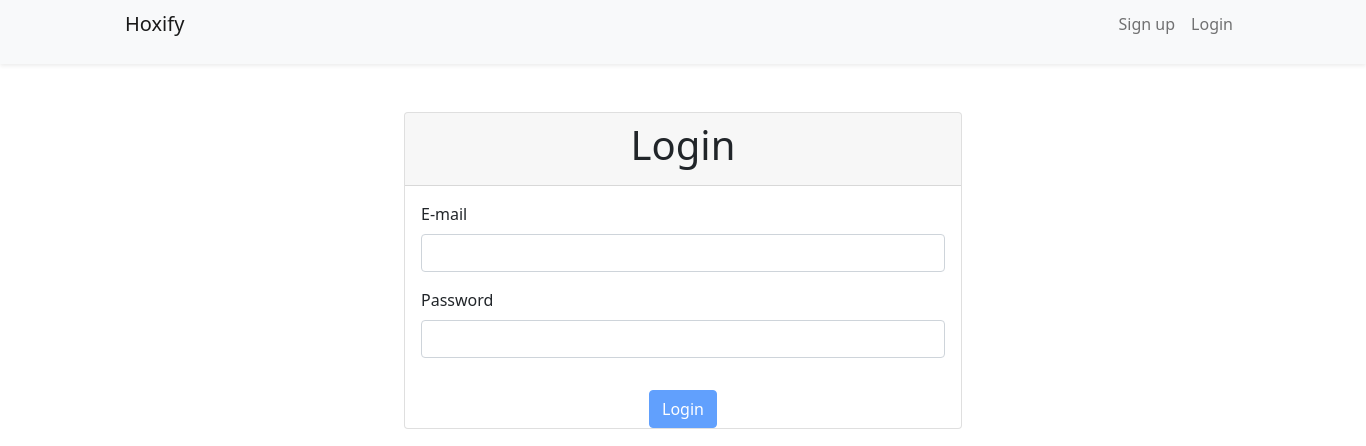
Test: Login › navigates to homepage when login is success
The image size is (1366, 446).
Type "user5@mail.com" into the field labelled "E-mail" at (683, 253), box 421,234 -> 945,272
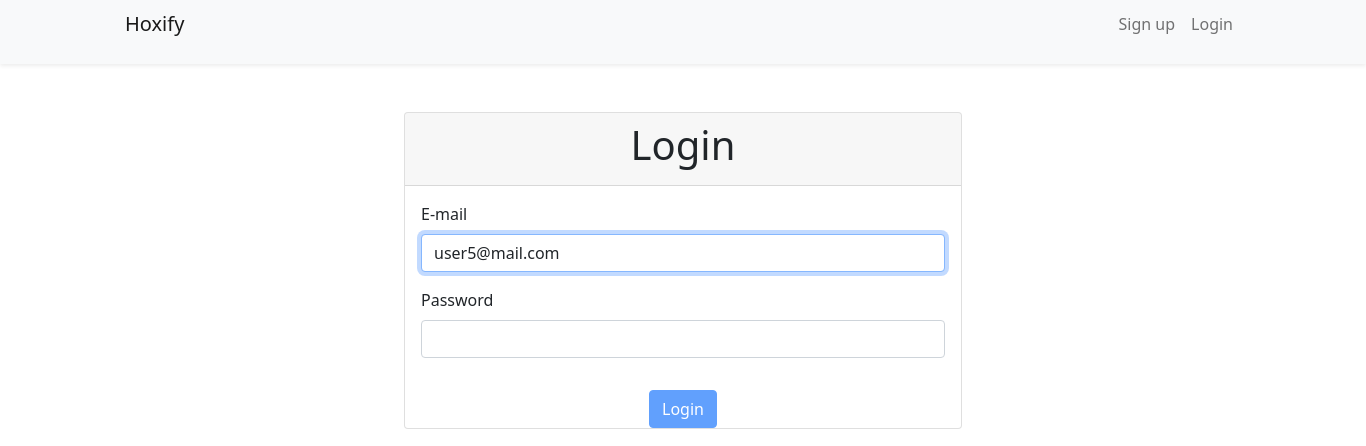
Type "P4ssword" into the password field labelled "Password" at (683, 339), box 421,320 -> 945,358
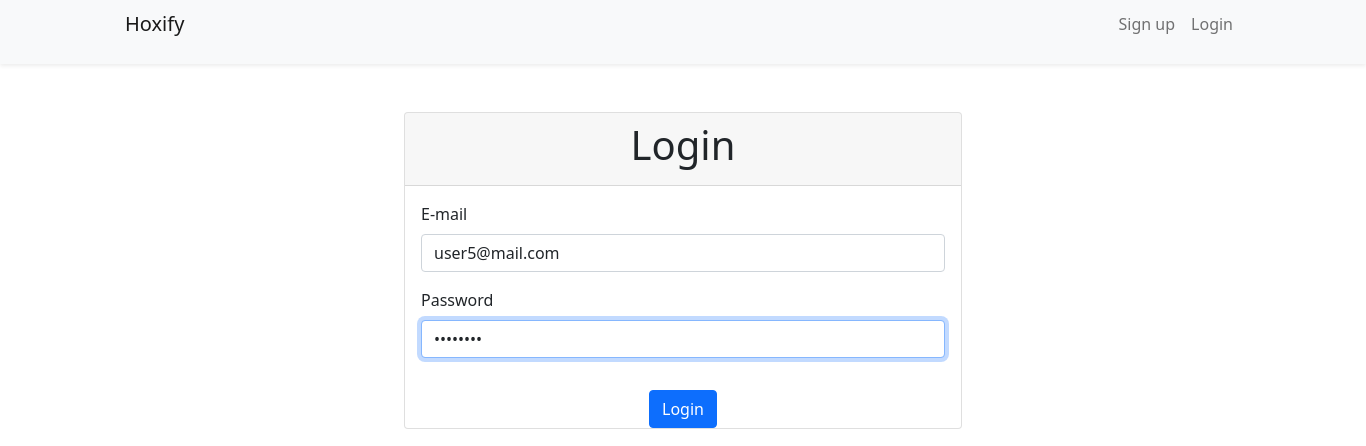
Click the button "Login" at (683, 409), box 649,390 -> 717,428
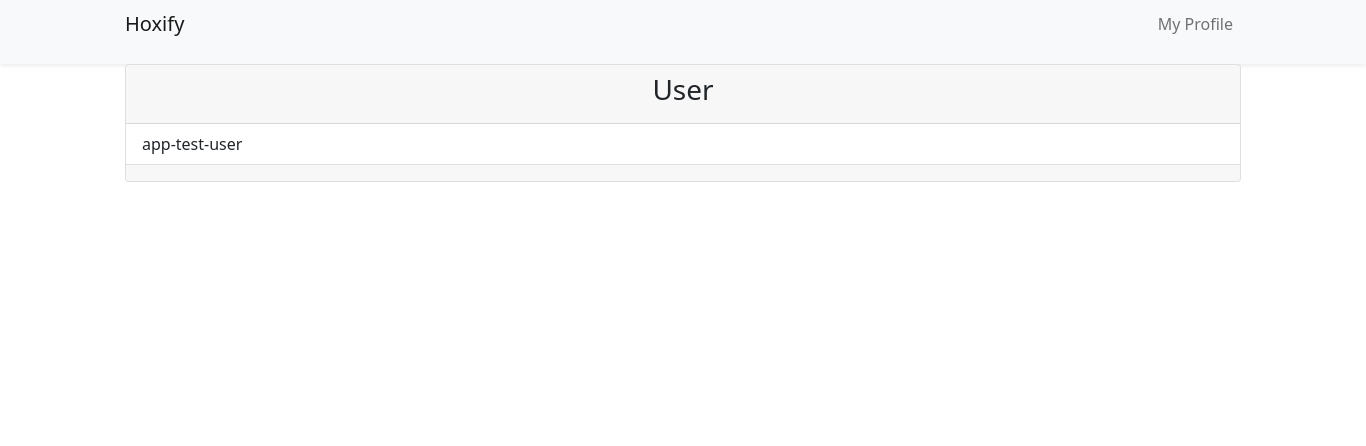
Expected: the element with test id "home-page" is shown, 125,64 -> 1241,182
